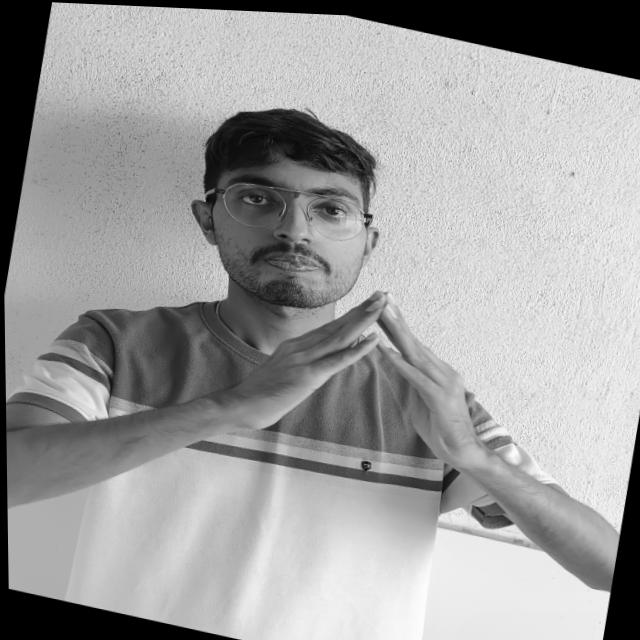Home: (208, 251, 534, 498)
